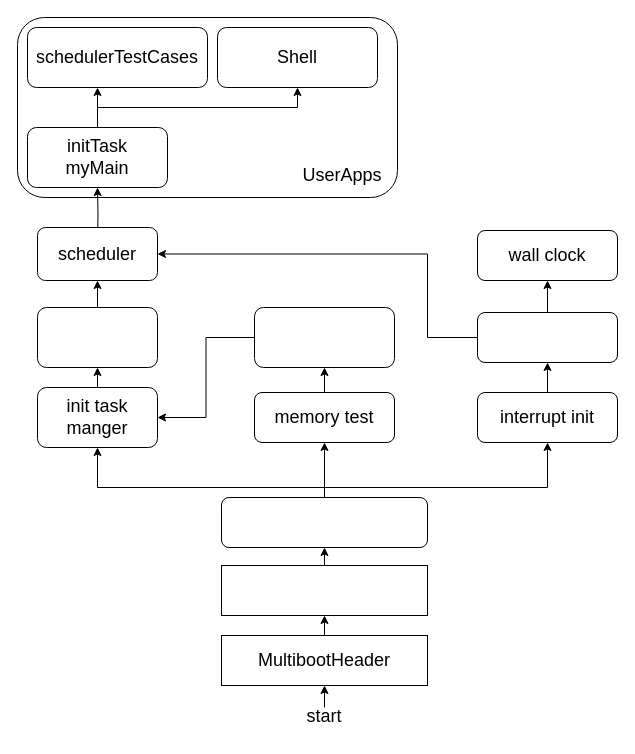
Some shapes in this 635 by 754 pixel diagram are drawn without their labels. Each missing label, with the centre of its shape:
"Init memory mangement" belongs at pixel 324 337.
"osStart" belongs at pixel 324 522.
"start multitasking" belongs at pixel 97 337.
"start32" belongs at pixel 324 590.
"tick" belongs at pixel 547 337.
